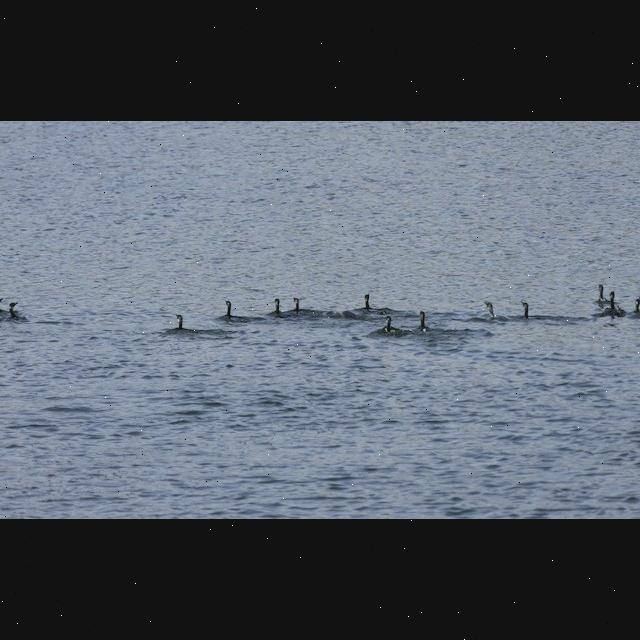cormorant: (166, 311, 198, 333), (376, 314, 402, 336), (4, 298, 26, 324), (270, 292, 284, 318), (223, 296, 237, 320), (516, 298, 532, 318), (290, 294, 306, 312), (417, 308, 429, 332)
